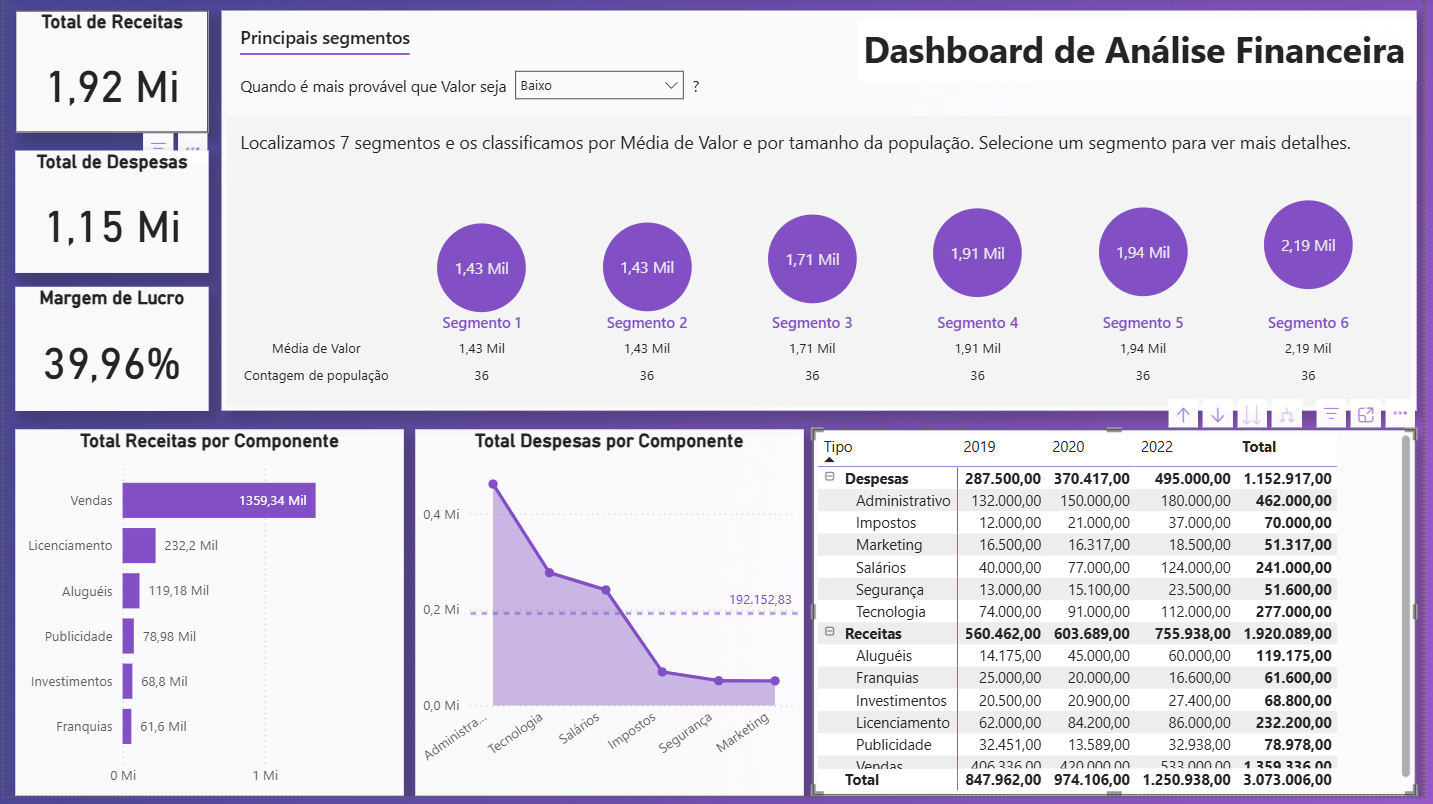

What the dashboard file says about the page in this screenshot:
{"tool":"powerbi","page":{"name":"Dashboard","canvas":[1280,720],"ordinal":0},"visuals":[{"type":"card","title":"Total de Receitas","fields":{"Values":["MedidasIndicadoresFinanceiros.TotalReceitas"]},"box":[10.1,11.3,174.7,110.5],"z":0},{"type":"card","title":"Total de Despesas","fields":{"Values":["MedidasIndicadoresFinanceiros.TotalDespesas"]},"box":[10.1,137.5,174.7,110.5],"z":1},{"type":"card","title":"Margem de Lucro","fields":{"Values":["MedidasIndicadoresFinanceiros.MargemLucro"]},"box":[10.5,260.5,174.4,111.6],"z":2},{"type":"clusteredBarChart","title":"Total Receitas por Componente","fields":{"Category":["DadosFinanceiros.Componente"],"Y":["MedidasIndicadoresFinanceiros.TotalReceitas"]},"box":[10.1,388.9,350.5,330.2],"z":3},{"type":"areaChart","title":"Total Despesas por Componente","fields":{"Category":["DadosFinanceiros.Componente"],"Y":["MedidasIndicadoresFinanceiros.TotalDespesas"]},"box":[370.8,388.9,350,330.2],"z":4},{"type":"pivotTable","fields":{"Rows":["DadosFinanceiros.Tipo","DadosFinanceiros.Componente"],"Values":["Sum(DadosFinanceiros.Valor)"],"Columns":["DadosFinanceiros.Data.Variation.Hierarquia de datas.Ano"]},"box":[729.2,388.9,544.4,330.2],"z":5},{"type":"keyDriversVisual","fields":{"Target":["DadosFinanceiros.Valor"],"ExplainBy":["DadosFinanceiros.Tipo","DadosFinanceiros.Componente"]},"box":[196.1,11.3,1077.5,360.7],"z":6},{"type":"textbox","box":[770,18.7,503.8,56],"z":7}]}

Visuals, with their boxes in screenshot pixels (x1, y1, x2, y2), scaled from the page's 1280x720 canvas onto the 1433x804 screenshot:
"Total de Receitas" card: [11,13,207,136]
"Total de Despesas" card: [11,154,207,277]
"Margem de Lucro" card: [12,291,207,416]
"Total Receitas por Componente" clusteredBarChart: [11,434,404,803]
"Total Despesas por Componente" areaChart: [415,434,807,803]
pivotTable - DadosFinanceiros.Tipo x DadosFinanceiros.Componente: [816,434,1426,803]
keyDriversVisual - DadosFinanceiros.Valor x DadosFinanceiros.Tipo: [220,13,1426,415]
textbox: [862,21,1426,83]
